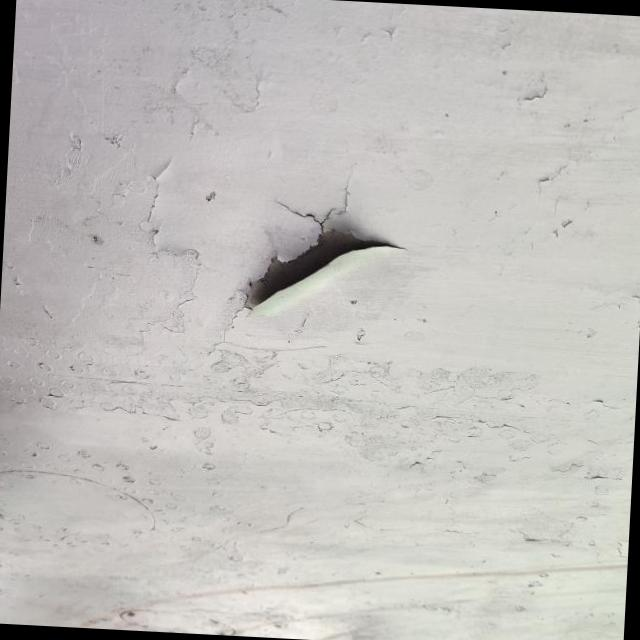Paint-off: (245, 230, 401, 309)
